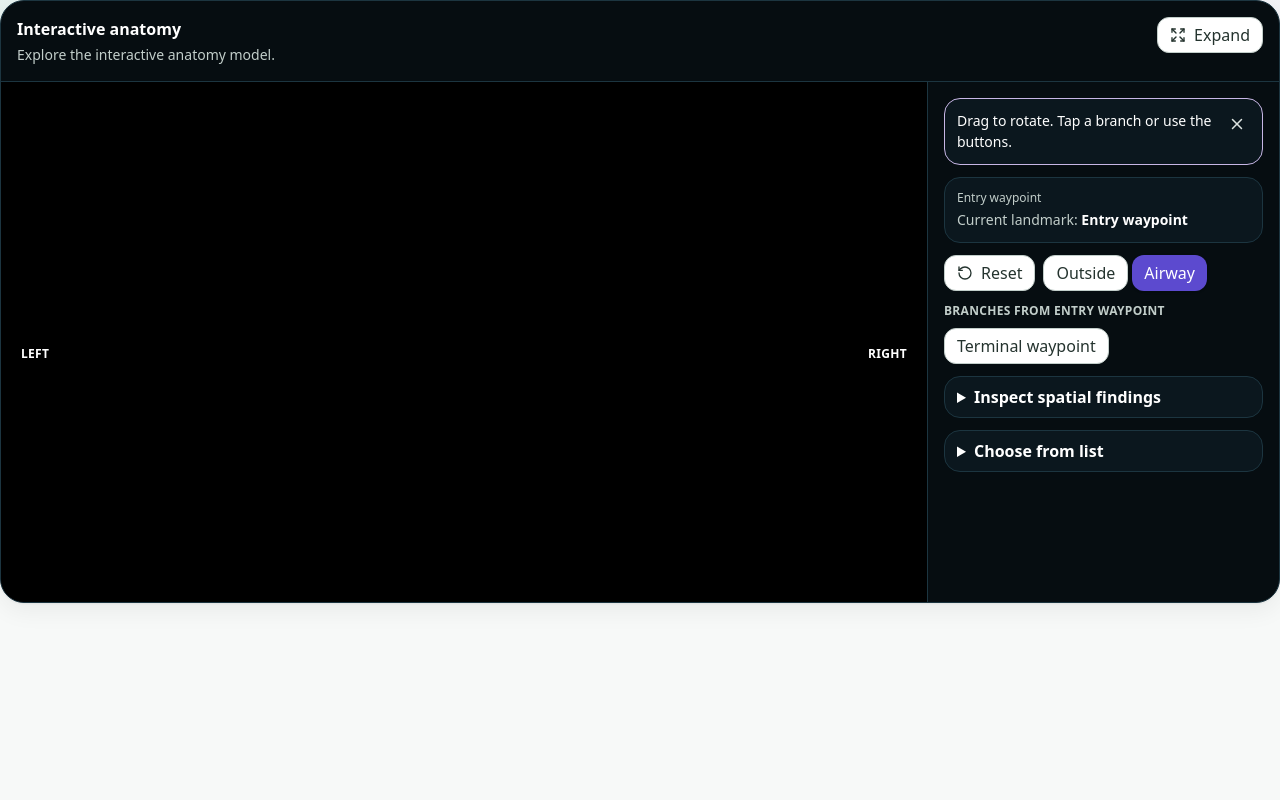
AnatomyViewer › installs, picks and labels configured findings
The image size is (1280, 800).
Press the mouse on the element named "Interactive 3D anatomy viewport" at (464,342), box [1,82,927,602]
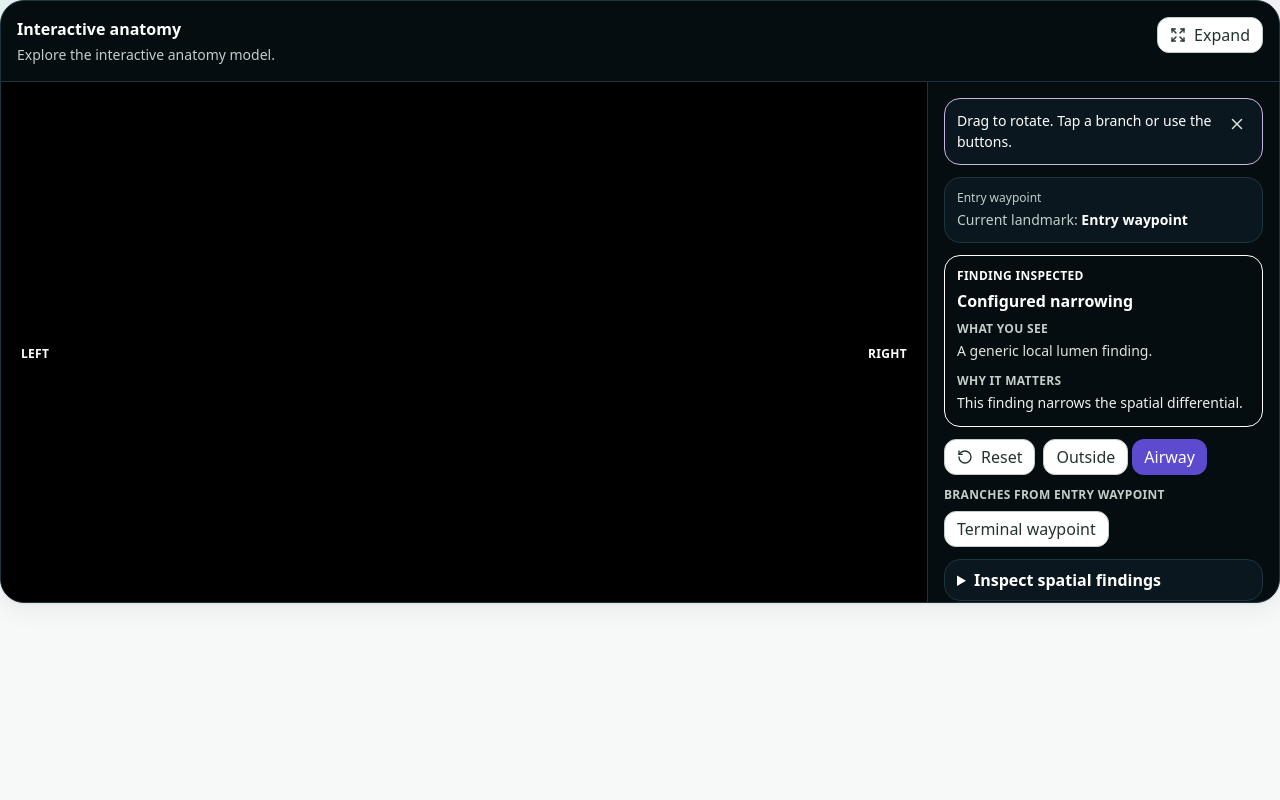
Expected: the message shows "Configured narrowing", [957,290,1133,312]
Expected: the text "Why it matters" is shown, [957,372,1062,389]
Expected: the text "This finding narrows the spatial differential." is shown, [957,393,1250,414]
